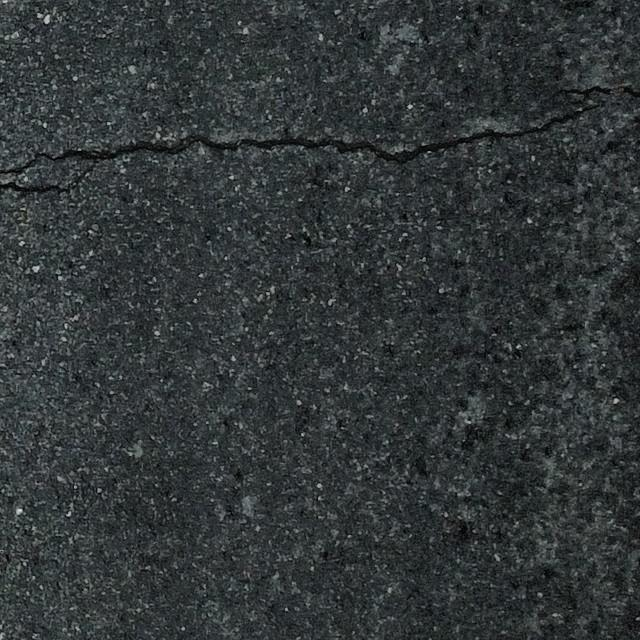TransverseCrack: (2, 102, 606, 193)
